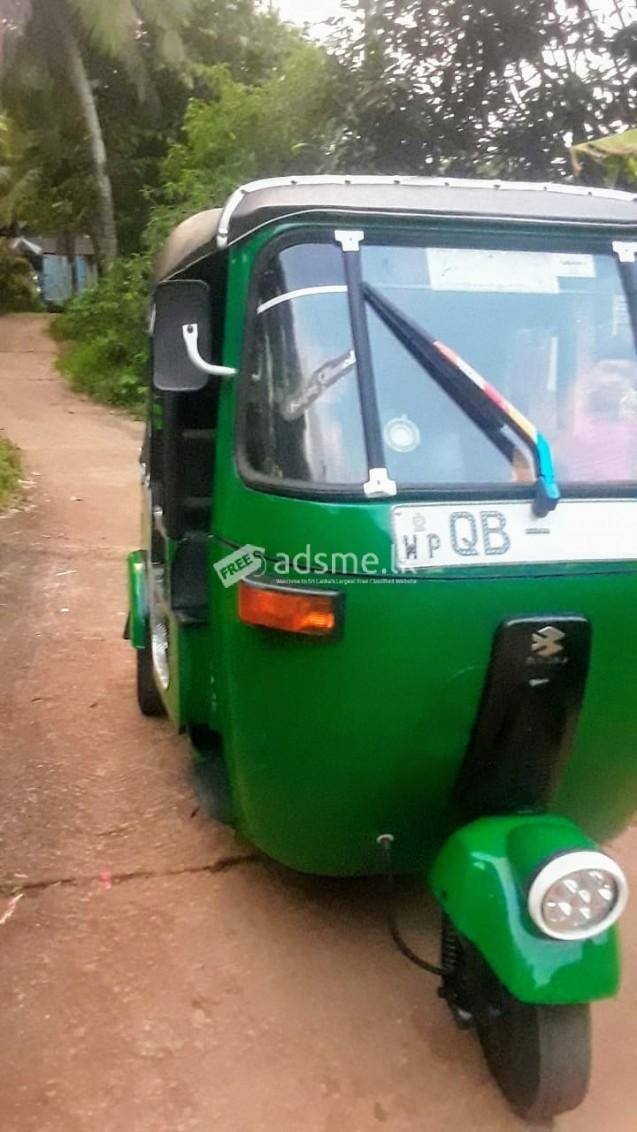threewheel: (122, 176, 637, 1122)
